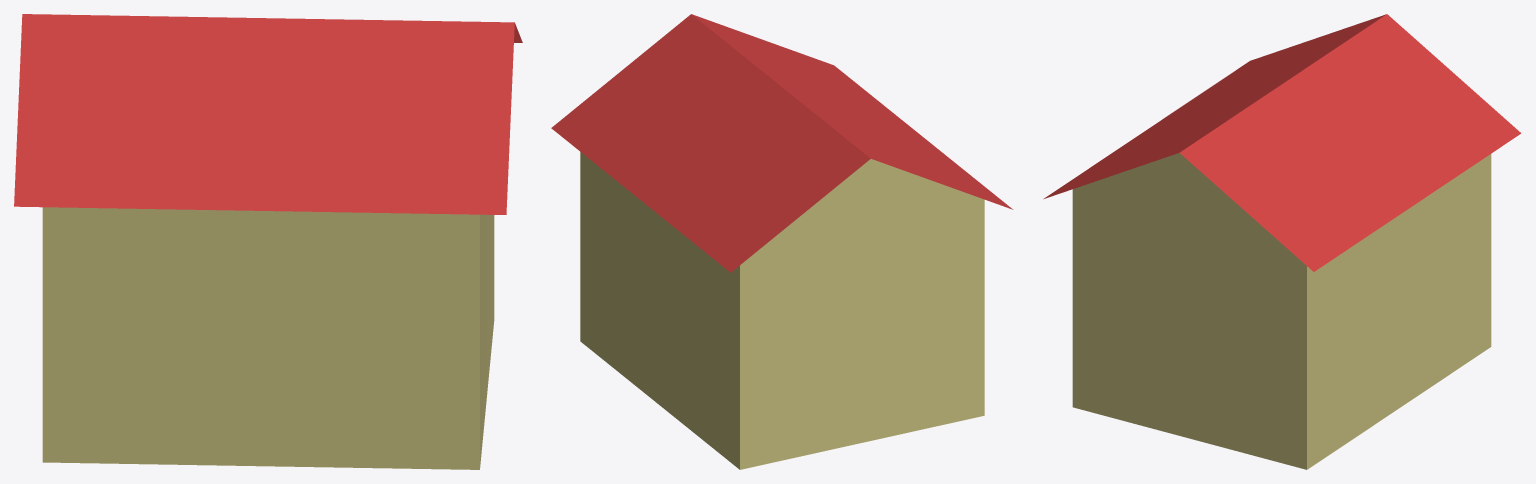
3 views of the same model, side by side, from view 1: azimuth 30°, elevation 25°; view 2: azimuth 150°, elevation 25°; view 3: azimuth 270°, elevation 25° (orthographic). The views are drawn at different scales.
Parts seen in each view (by area): view 1: group_5, group_3; view 2: group_5, group_3, group_4; view 3: group_5, group_3, group_4.
Boxes of the visible parts, box(x1,y1,x2,y2) form: group_5: box(42, 207, 494, 469); group_3: box(14, 14, 522, 214); group_5: box(580, 152, 984, 469); group_3: box(580, 14, 1013, 249); group_4: box(551, 15, 870, 272); group_5: box(1072, 153, 1491, 469); group_3: box(1043, 14, 1490, 270); group_4: box(1181, 14, 1521, 271).
Size of the model in its own units: 17.19 by 16.47 by 11.15.
